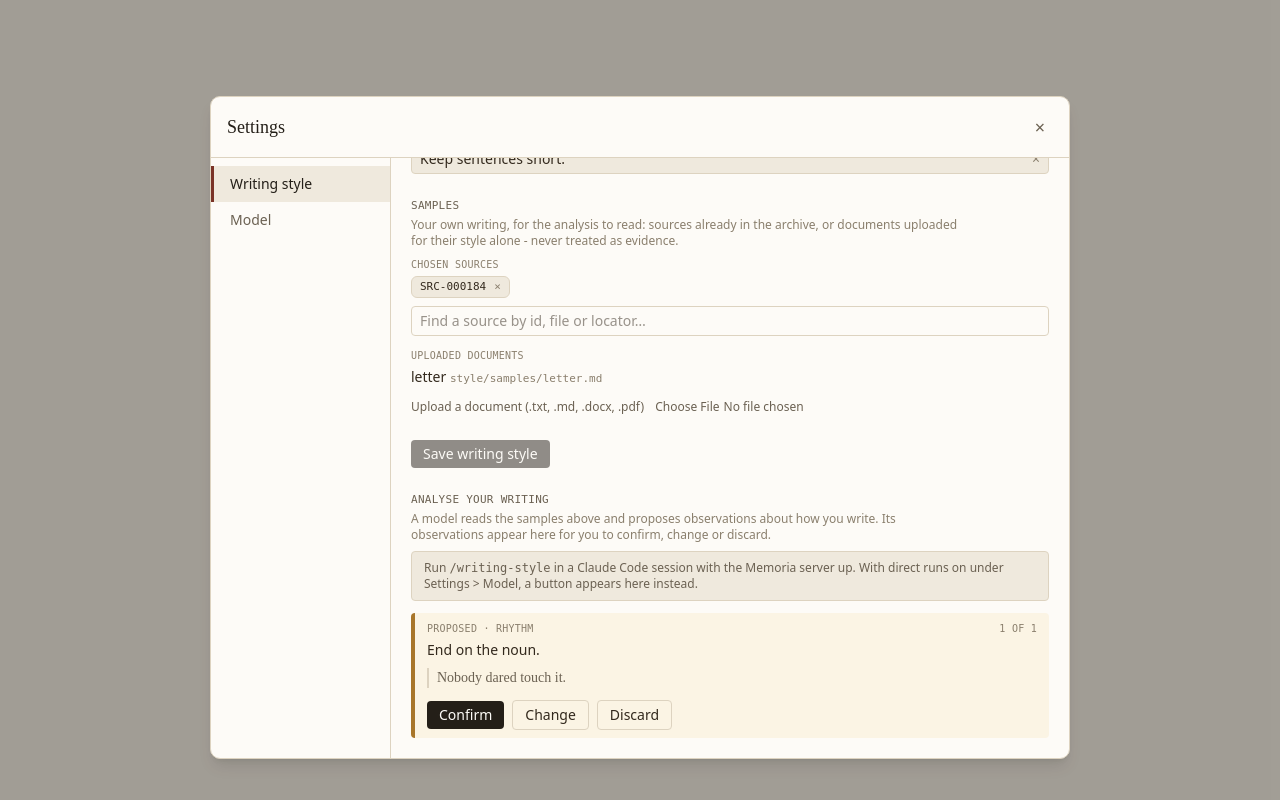
Test: the settings dialog › discards without touching the style
(page scrolled)
Click the button "Discard": (634, 714) [597, 700, 672, 730]
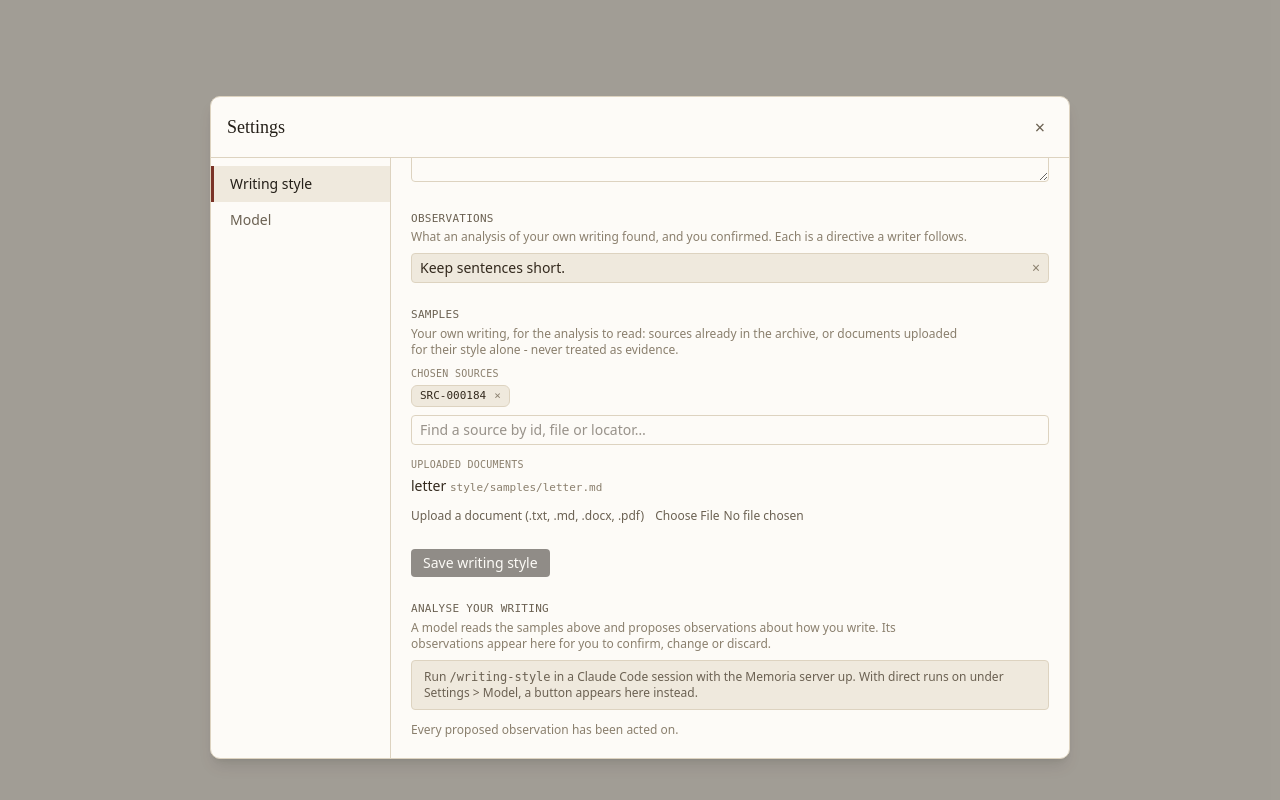
Expected: the text "Every proposed observation has been acted on." is shown, [411, 720, 678, 738]
